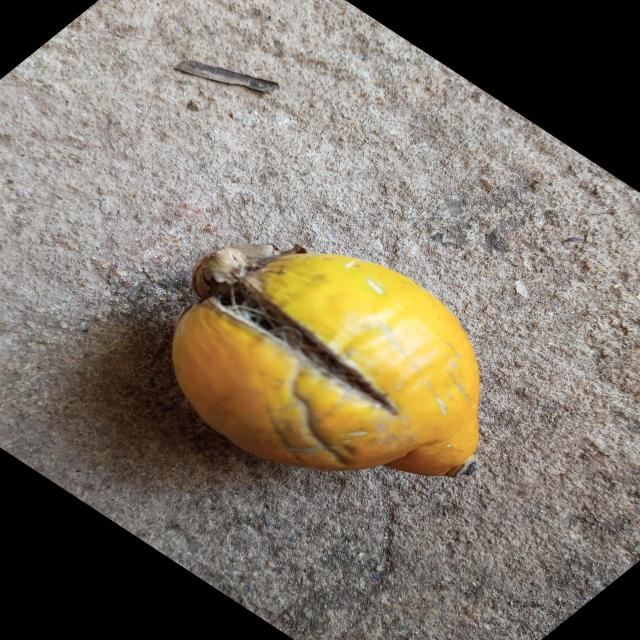damaged: (173, 245, 479, 477)
